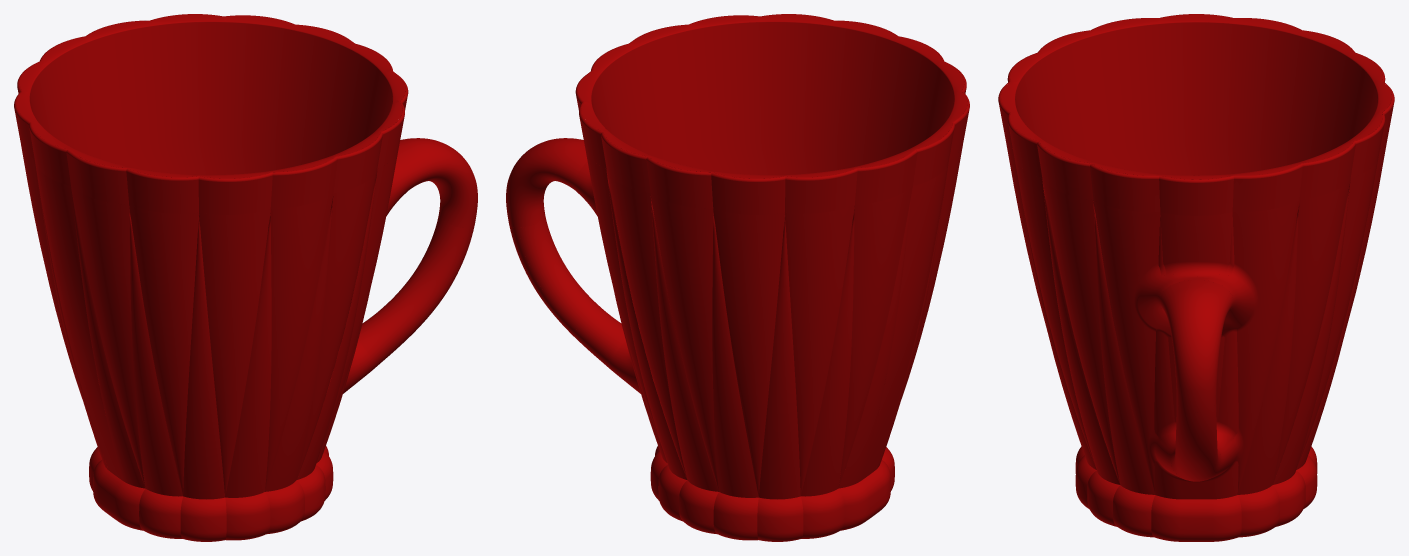
Rendered from CM-MUG033.glb.
3 views of the same model, side by side, from view 1: azimuth 30°, elevation 25°; view 2: azimuth 150°, elevation 25°; view 3: azimuth 270°, elevation 25° (orthographic).
Bounding box in the file's own units: 0.0971 × 0.0865 × 0.0765.
